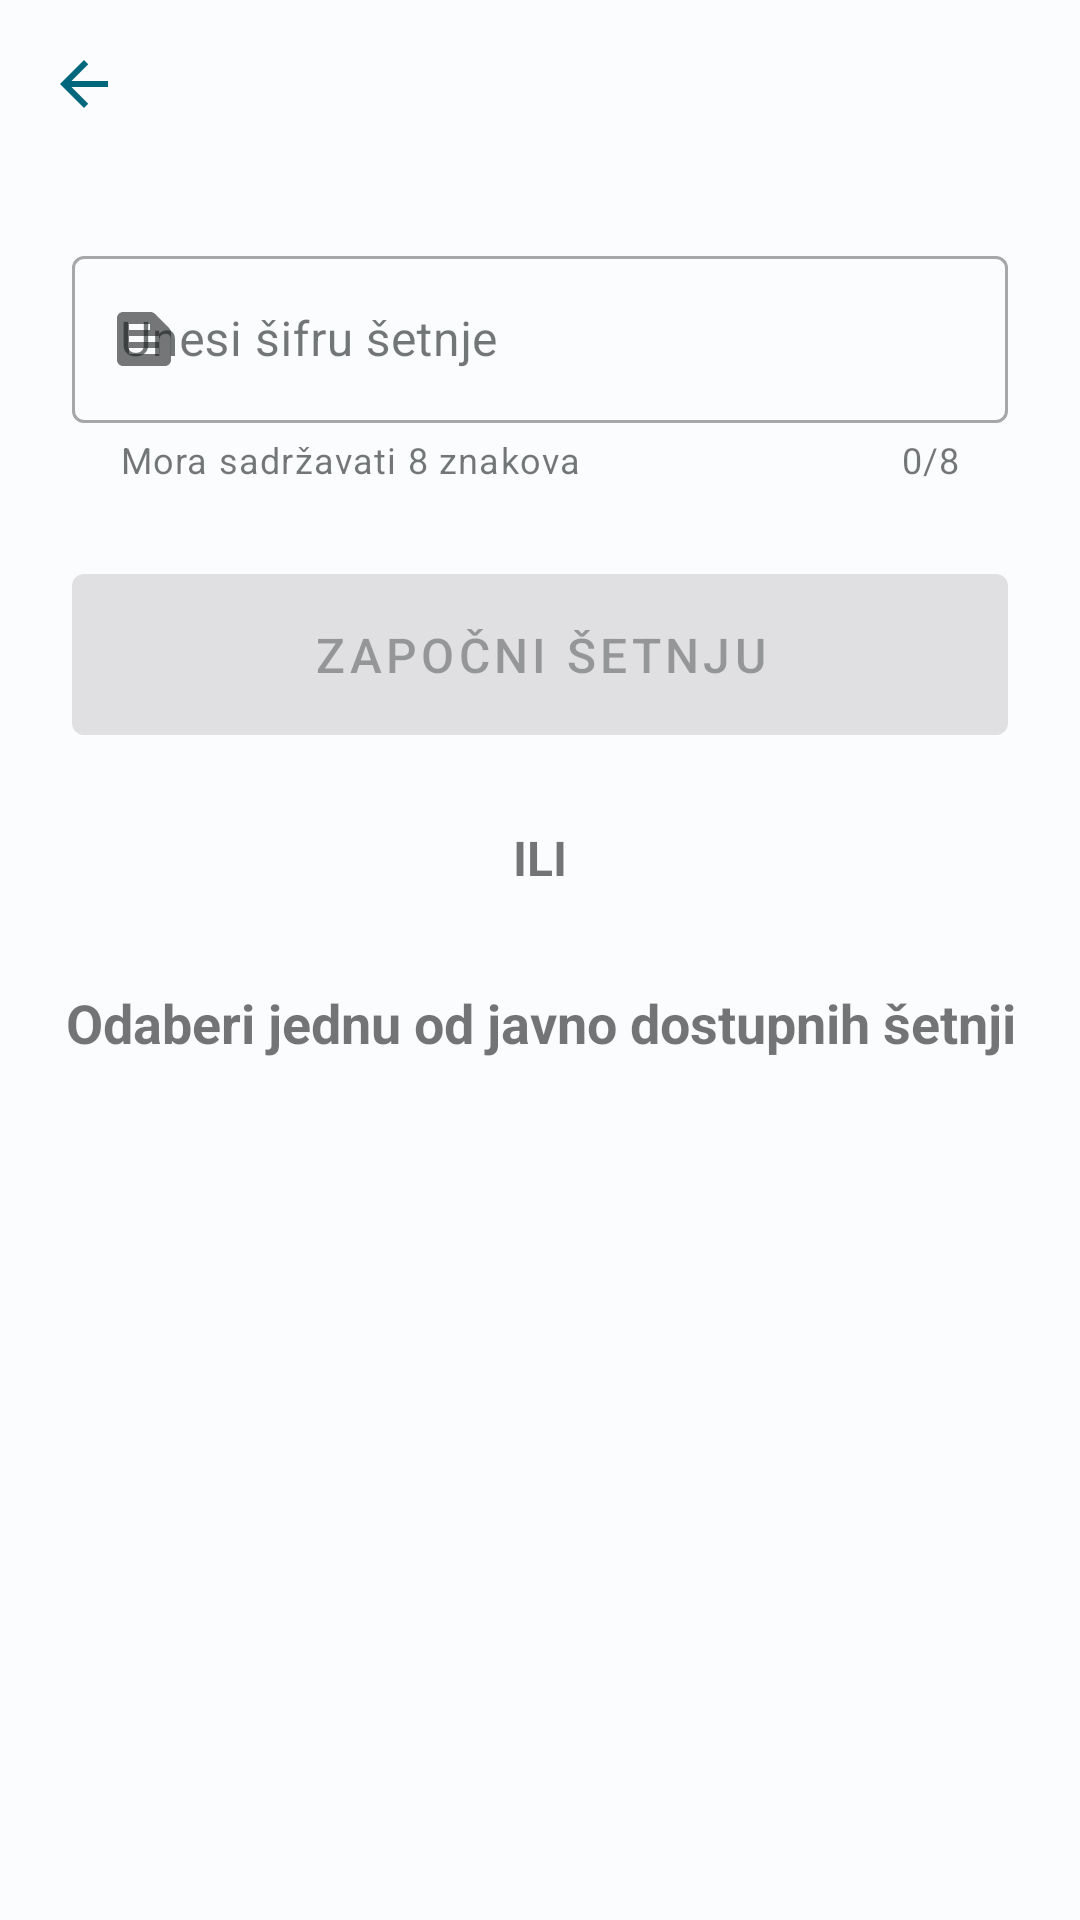

Icon click points for this 1080px x 1920px phone screenshot, format [x,y]:
arrow back: [84,84]
